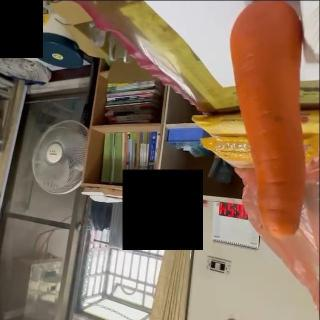carrot: (228, 0, 308, 238)
